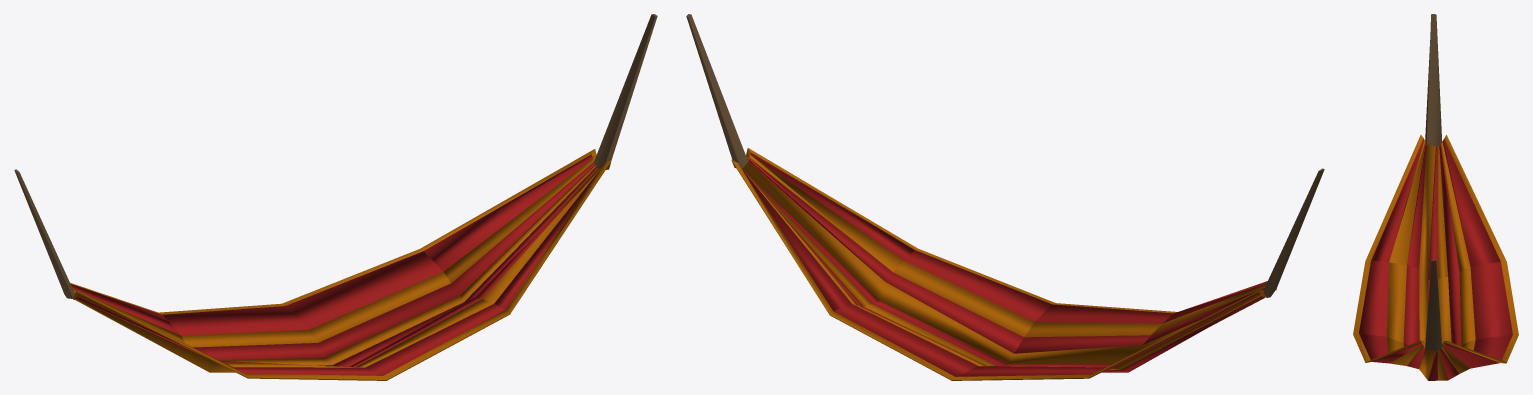
The model's file is Kasur Gantung.fbx.
3 renders of one model, left to right at view 1: azimuth 30°, elevation 25°; view 2: azimuth 150°, elevation 25°; view 3: azimuth 270°, elevation 25°, orthographic. The views are drawn at different scales.
Visible parts, largest first — view 1: Object_6; view 2: Object_6; view 3: Object_6.
Boxes of the visible parts, bbox=[...] form: Object_6: bbox=[14, 14, 657, 380]; Object_6: bbox=[686, 14, 1324, 380]; Object_6: bbox=[1353, 14, 1518, 380].
Size of the model in its own units: 479 by 198 by 136.
